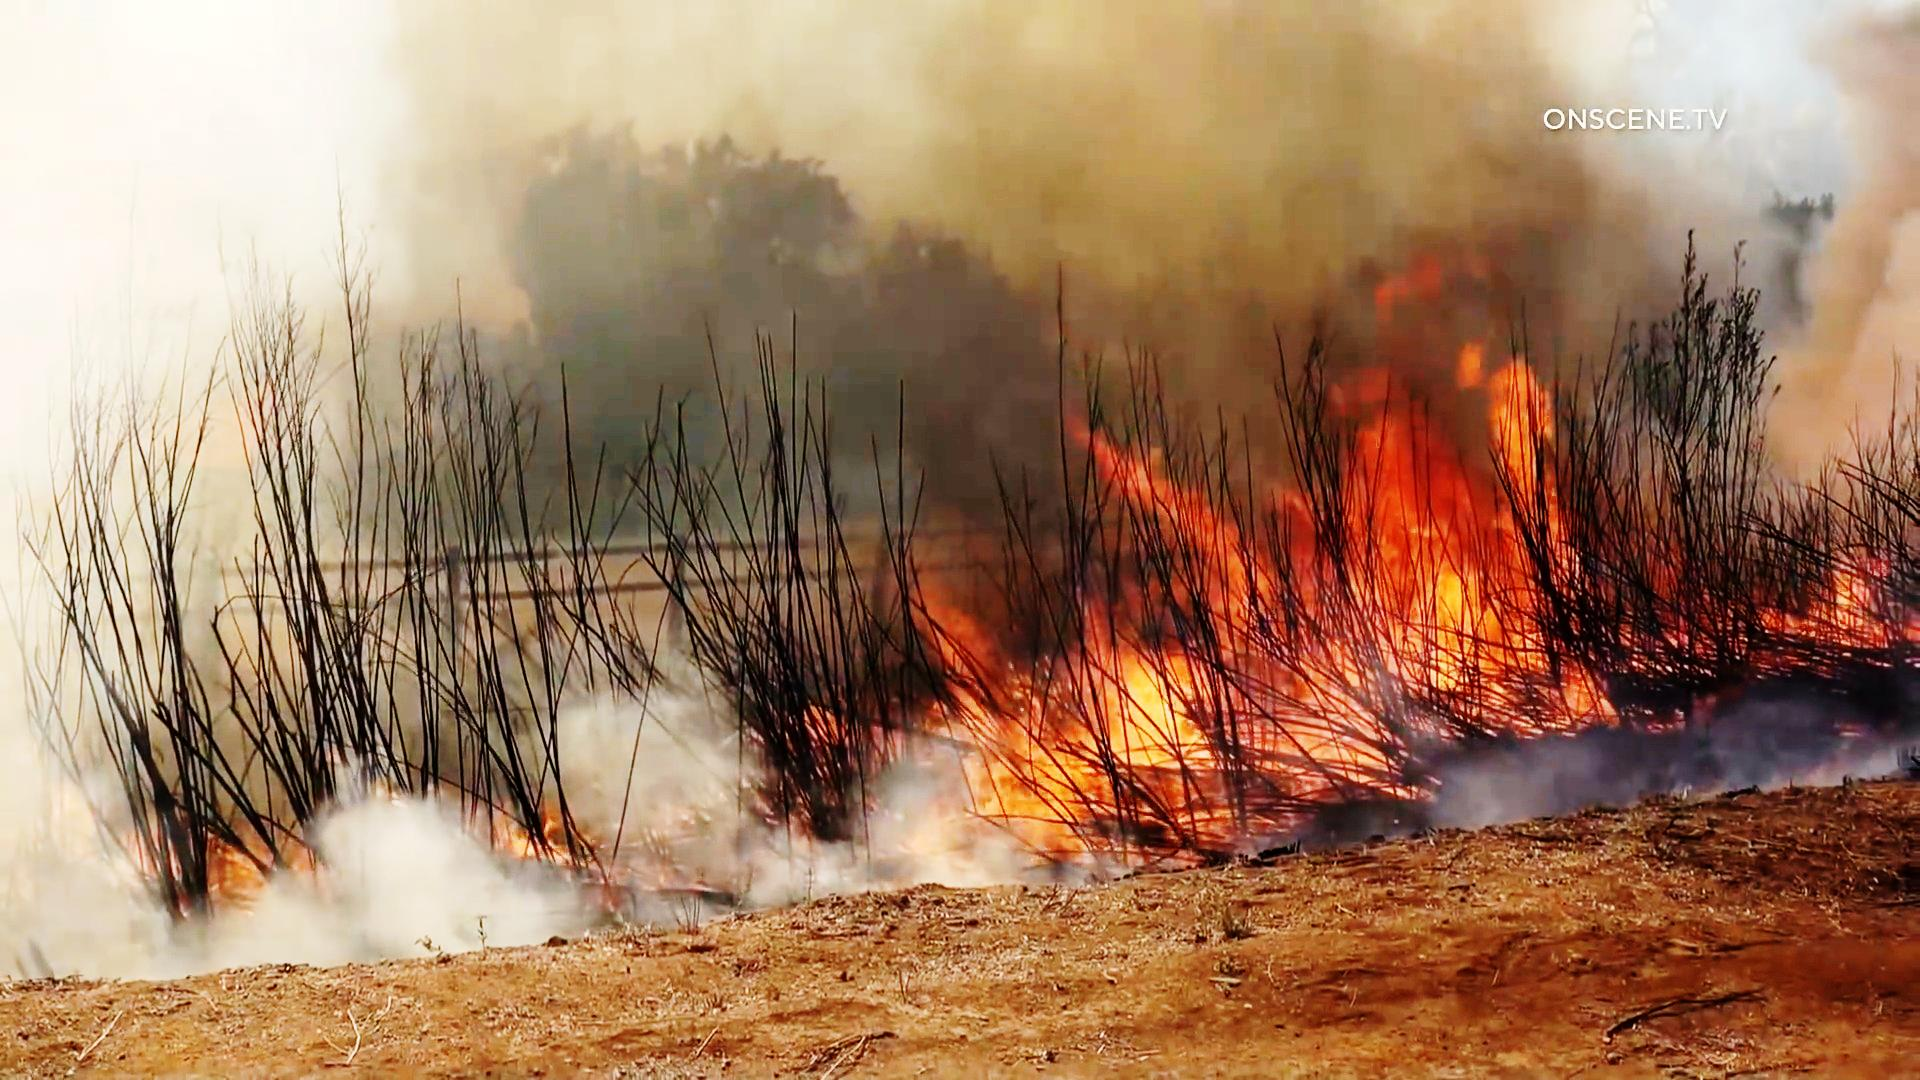fire: (1308, 378, 1597, 782), (928, 695, 1337, 910), (1058, 404, 1302, 649)
smoke: (382, 21, 1033, 294), (1080, 28, 1536, 343), (1796, 3, 1920, 505), (303, 789, 543, 952)
